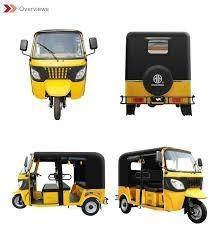keke: (114, 26, 198, 123), (20, 26, 97, 127), (117, 144, 208, 224), (8, 149, 109, 219)
